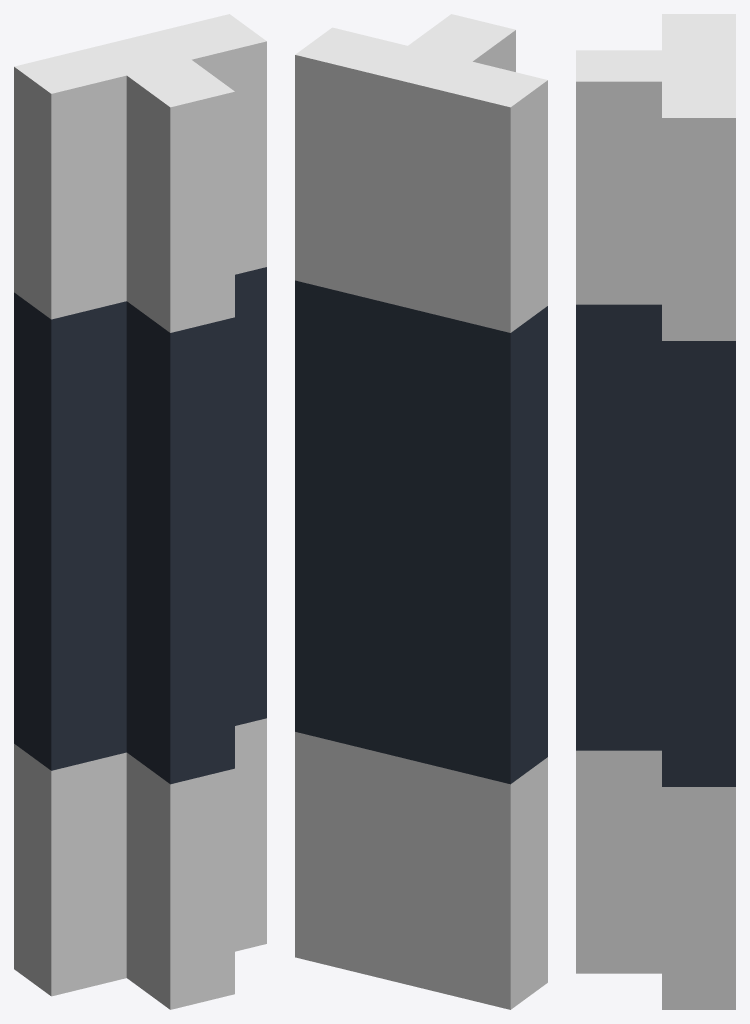
The model's file is SM_OfficeTCrossThick.fbx.
3 renders of one model, left to right at view 1: azimuth 30°, elevation 25°; view 2: azimuth 150°, elevation 25°; view 3: azimuth 270°, elevation 25°, orthographic.
Visible parts, largest first — view 1: SM_TCrossThick; view 2: SM_TCrossThick; view 3: SM_TCrossThick.
Boxes of the visible parts, box(x1,y1,x2,y2) form: SM_TCrossThick: box(14, 14, 266, 1009); SM_TCrossThick: box(295, 14, 547, 1009); SM_TCrossThick: box(576, 14, 735, 1009).
Size of the model in its own units: 100 by 400 by 65.
